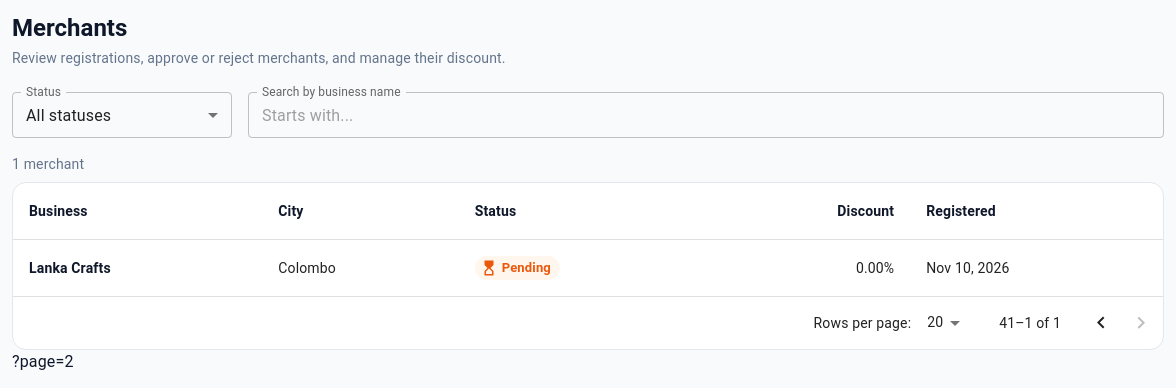
Test case: TST-040 Member 3: admin merchant directory (FR-AUTH-017, UC-A05) › filters by status: the request and the URL change and the page goes back to 0
The width and height of the screenshot is (1176, 388).
Expected: the link "Lanka Crafts" is shown, [29,260,111,276]
Click the dropdown labelled "status".
click(69, 115)  # box [26,106,111,124]
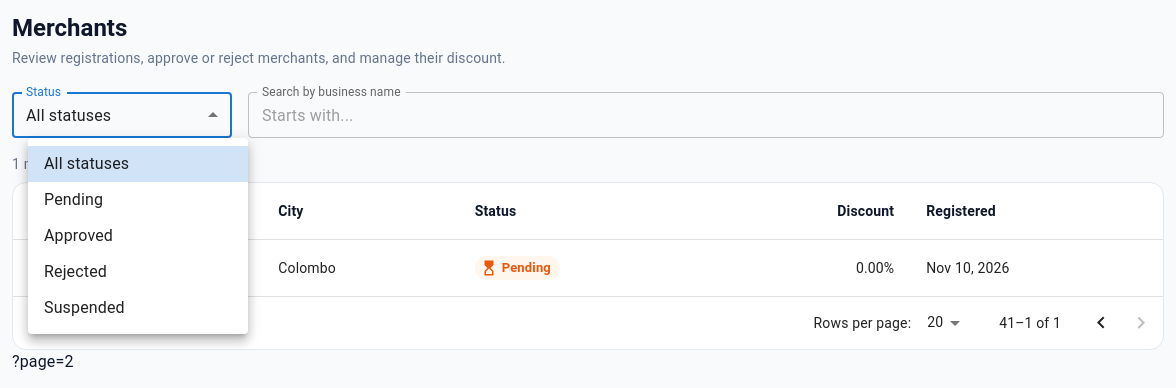
Click the option "Pending".
click(74, 200)  # box [44,190,103,209]
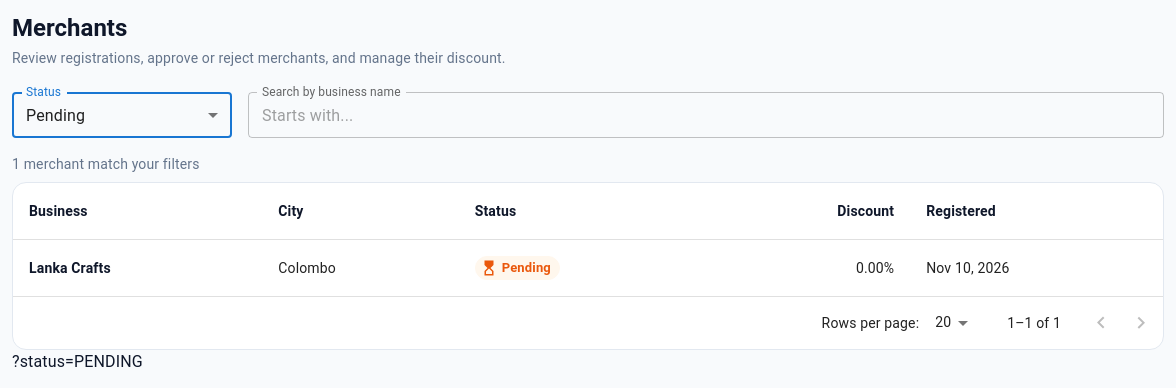
Expected: the text with test id "search" reads "?status=PENDING", [12,352,143,371]
Expected: the text with test id "search" no longer shows "page=", [12,352,143,371]
